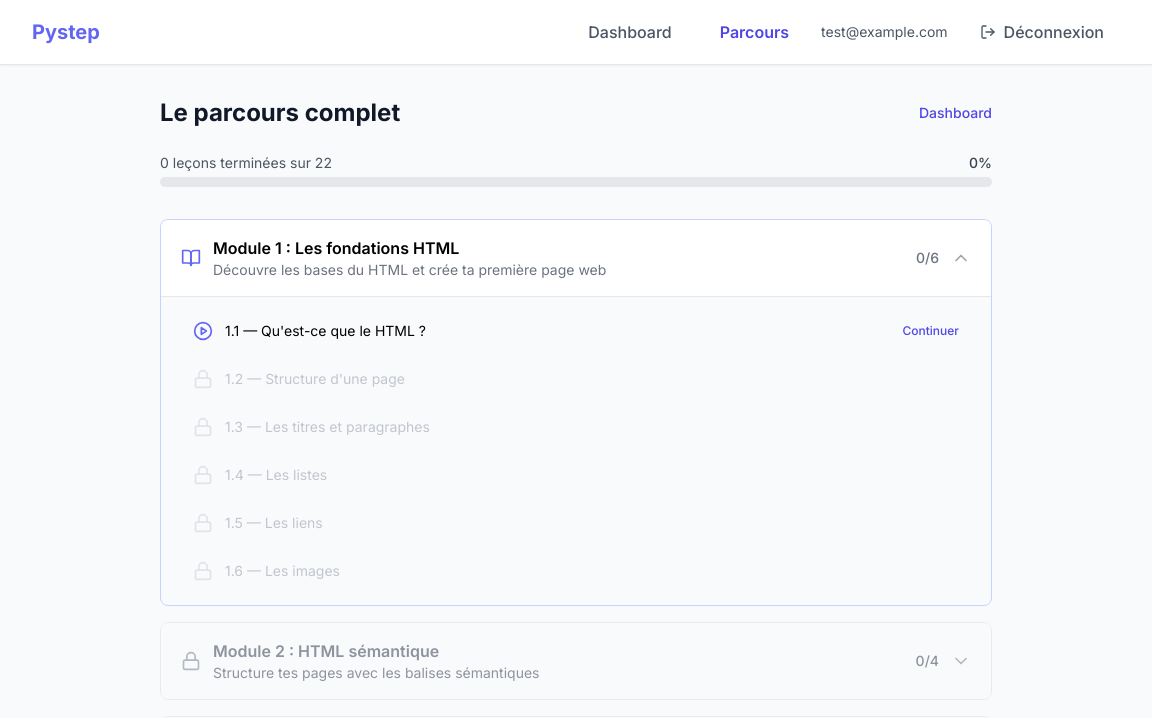
Test case: CoursePage › should toggle module accordion on click
The width and height of the screenshot is (1152, 718).
# Module 1 expanded, click to collapse
Click the button "Module" at (576, 258), box top-left (161, 220), bottom-right (991, 296)
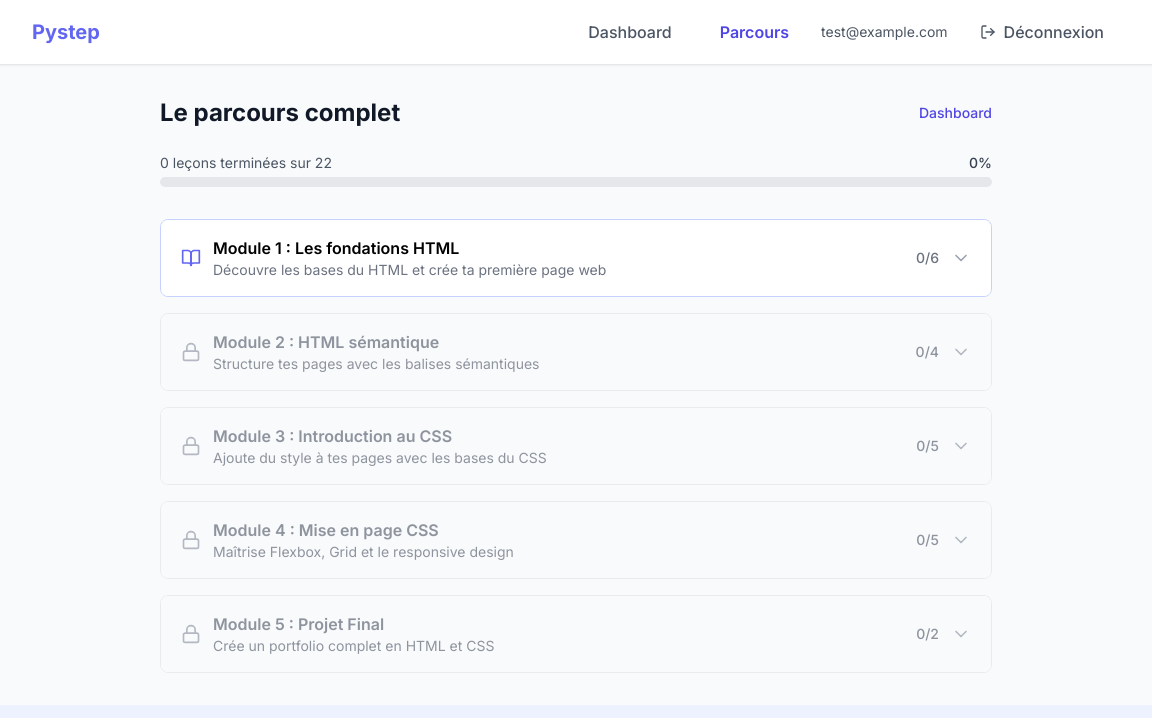
Now the link "1.1 —" is gone
